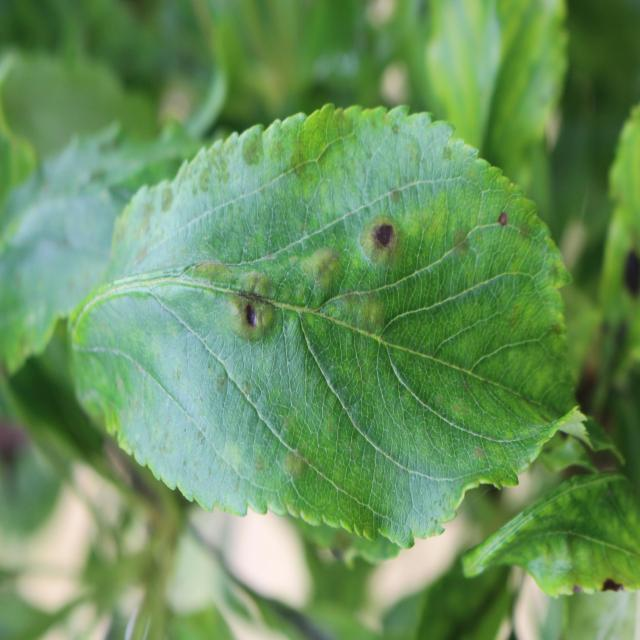scab: (90, 104, 414, 210), (228, 272, 278, 351), (352, 213, 413, 268), (238, 444, 313, 487), (336, 285, 388, 347), (287, 240, 347, 292), (443, 215, 472, 275), (547, 253, 564, 302), (521, 208, 539, 253)
